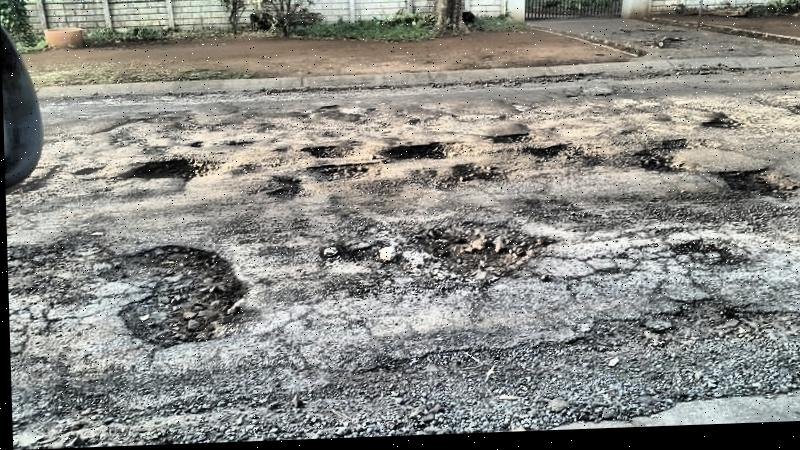pothole: (83, 236, 256, 358), (400, 210, 553, 299), (125, 149, 221, 196), (714, 166, 800, 217), (625, 135, 707, 187), (293, 162, 387, 190), (289, 103, 370, 132), (521, 143, 578, 184), (384, 142, 466, 170), (692, 111, 751, 137), (72, 161, 104, 180), (487, 134, 526, 148)
